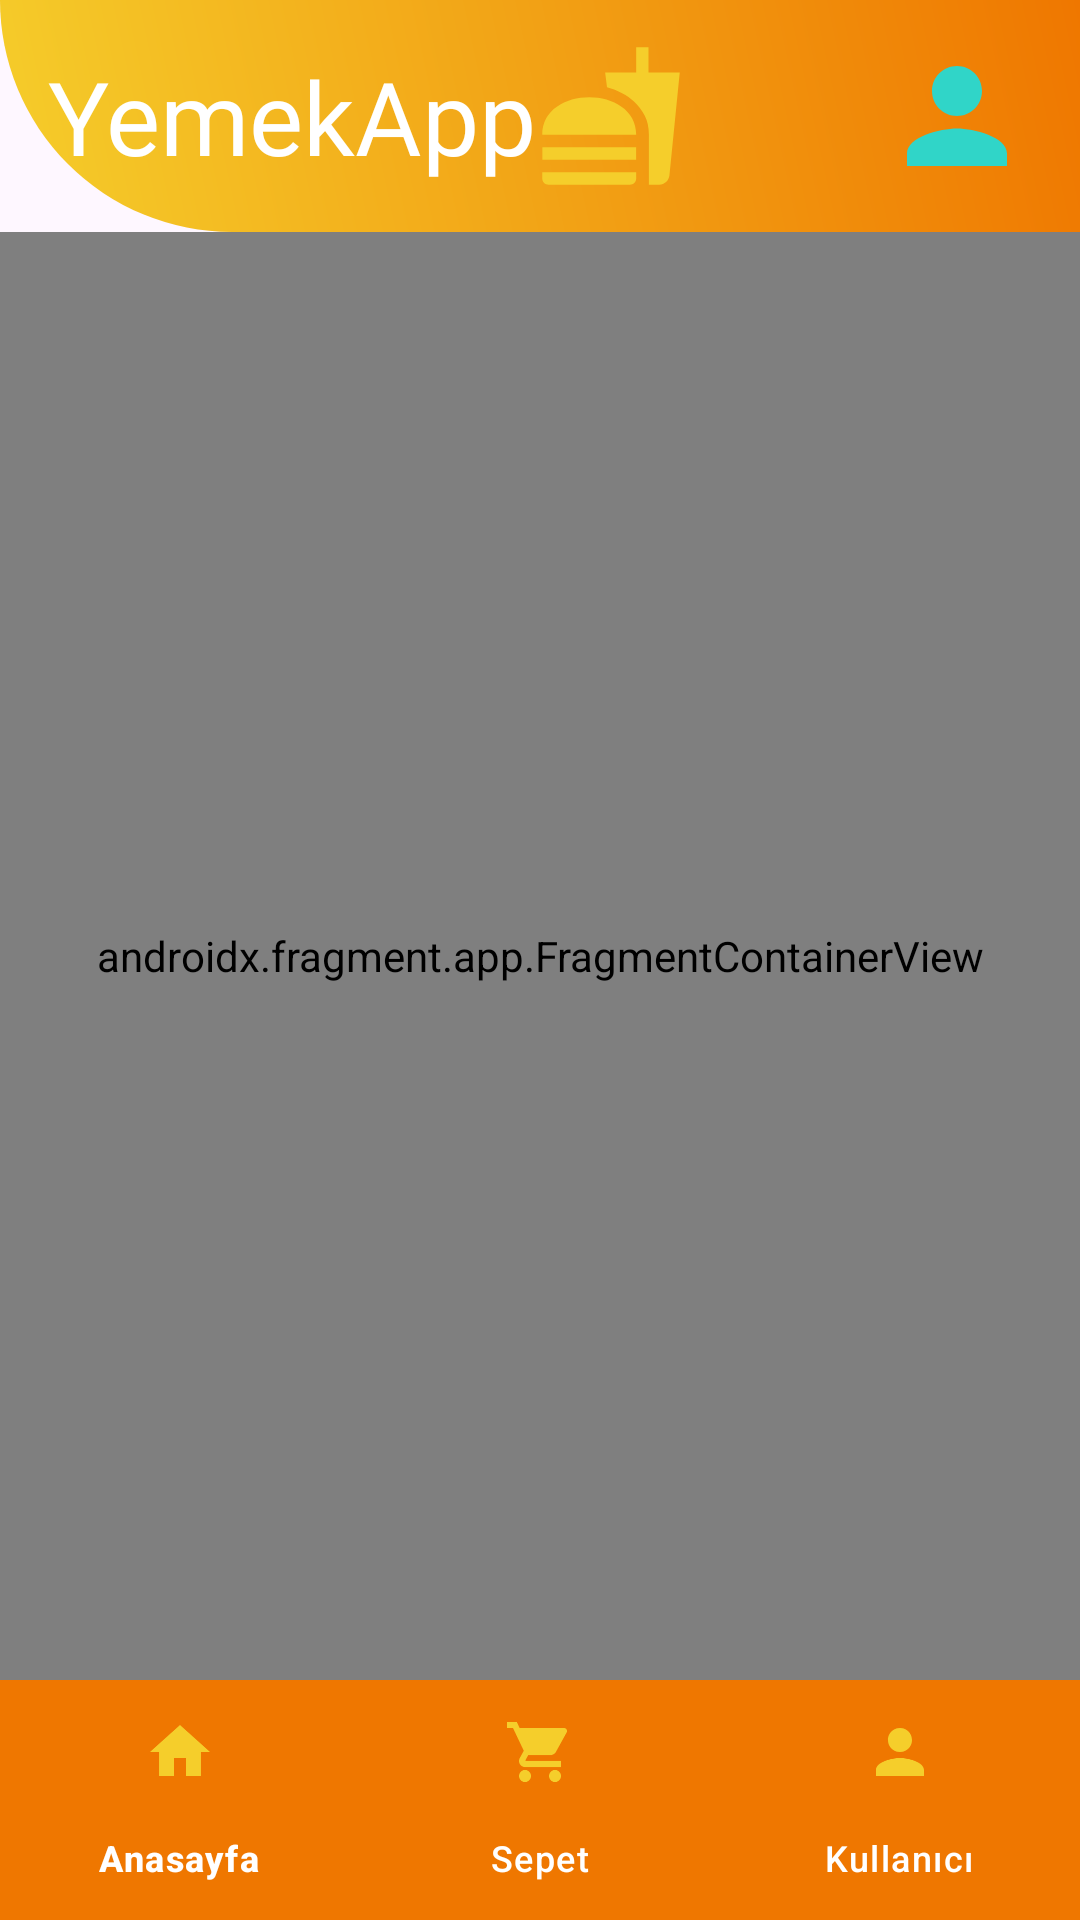

Icon click points for this 1080px x 1920px phone screenshot, format (x,y):
fastfood: (611,116)
